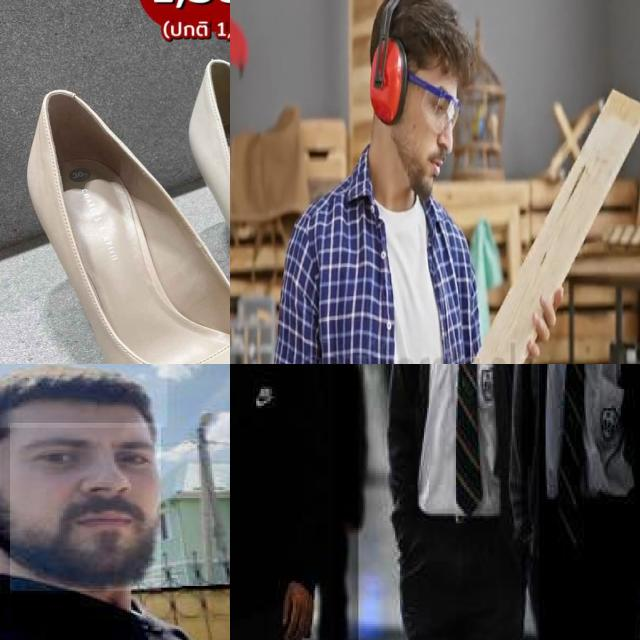Ear-protection: (368, 26, 406, 132)
No_Glasses: (17, 426, 169, 486)
Sandals: (8, 67, 230, 364)
face_nomask: (10, 423, 161, 591)
glasses: (413, 75, 468, 135)
hand_noglove: (278, 574, 316, 640)
head_nohelmet: (0, 364, 167, 427)
person: (259, 0, 518, 364), (0, 364, 230, 640), (358, 364, 539, 640), (521, 364, 640, 640), (230, 364, 336, 640)
